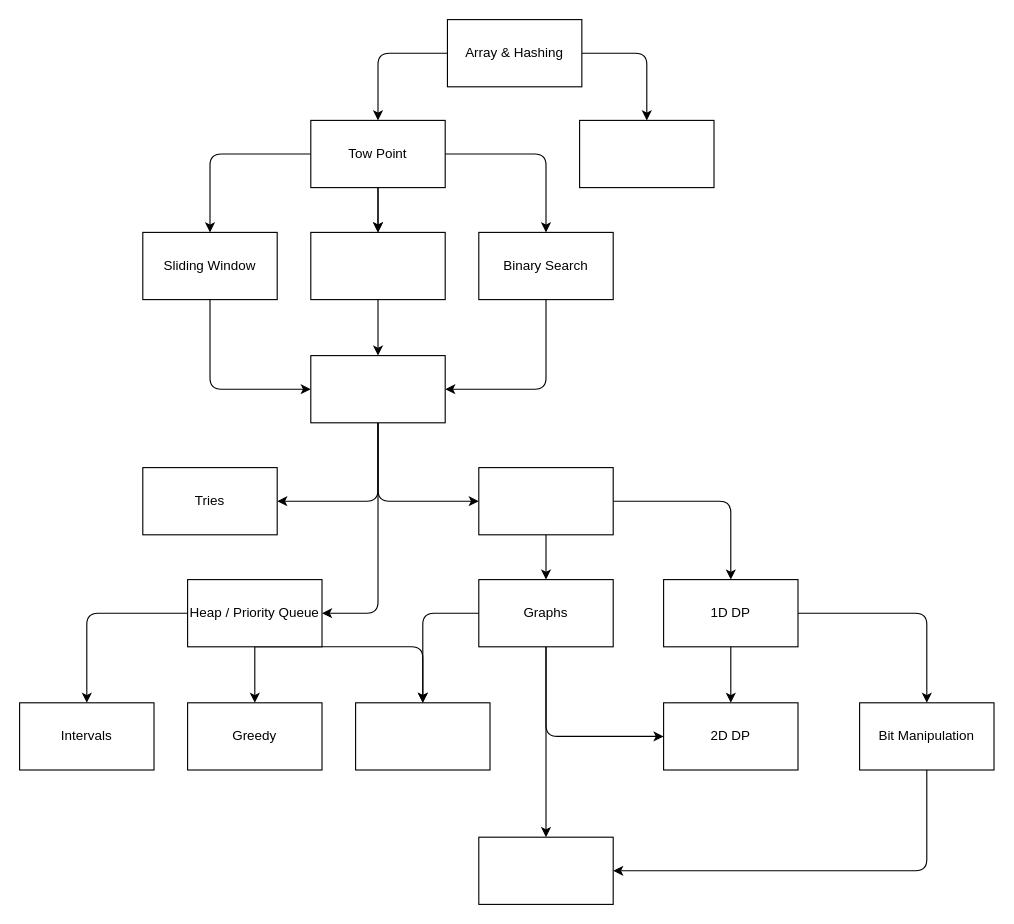
Some shapes in this 1014 by 924 pixel diagram are drawn without their labels. The box of each missing label's shape, as (x1, y1, x2, y2) in pixels:
Advanced Graphs: (354, 702, 490, 770)
Backtracking: (478, 466, 613, 535)
LinkedList: (310, 231, 445, 300)
Math & Geometry: (478, 836, 613, 904)
Stack: (578, 119, 714, 188)
Trees: (310, 354, 445, 423)
